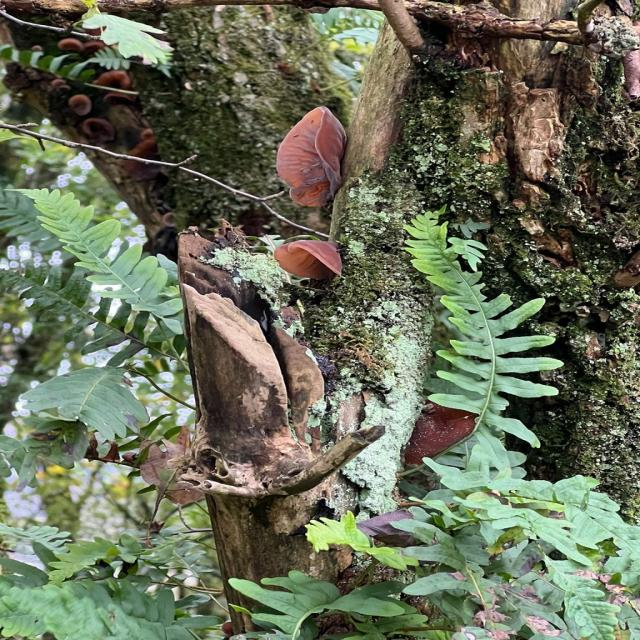Matang: (279, 104, 369, 214), (257, 230, 388, 286)
